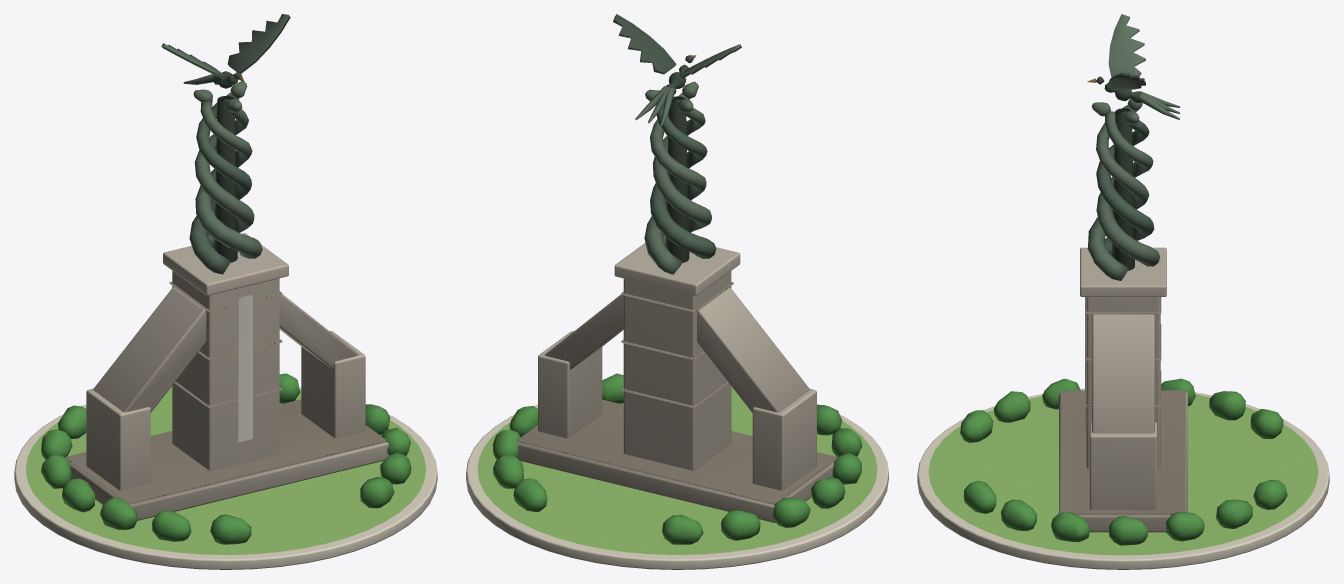
Rendered from tower.glb.
3 renders of one model, left to right at view 1: azimuth 30°, elevation 25°; view 2: azimuth 150°, elevation 25°; view 3: azimuth 270°, elevation 25°, orthographic. The views are drawn at different scales.
Parts seen in each view (by area): view 1: LM_tower; view 2: LM_tower; view 3: LM_tower.
Part boxes in pixels (bbox=[...]): LM_tower: bbox=[14, 14, 437, 569]; LM_tower: bbox=[466, 14, 888, 569]; LM_tower: bbox=[917, 14, 1329, 569].
Size of the model in its own units: 12.8 by 15.09 by 12.8.
